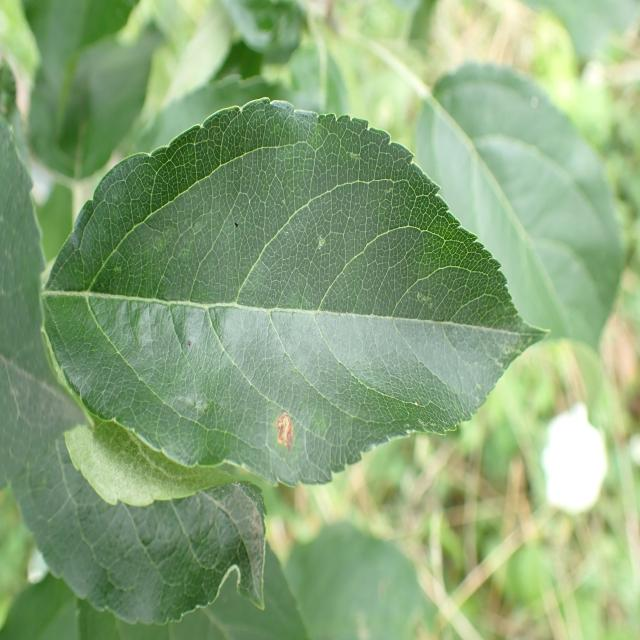Black Rot: (268, 407, 304, 461)
